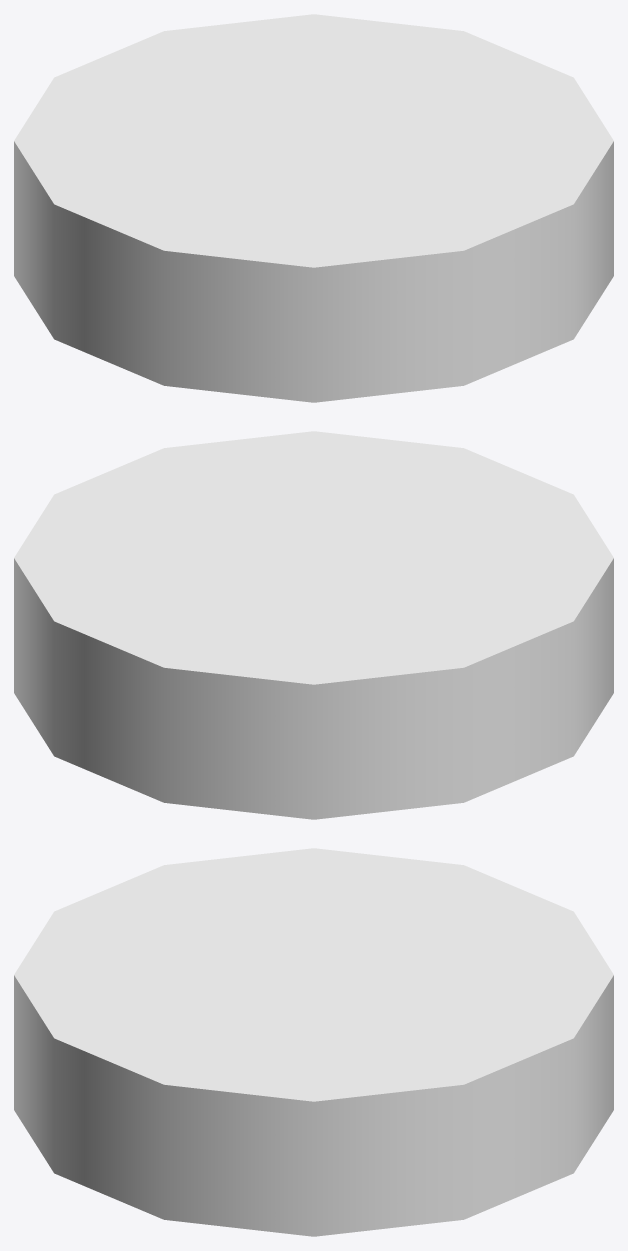
File: chewing tabacco.fbx
3 views of the same model, one above another, from view 1: azimuth 30°, elevation 25°; view 2: azimuth 150°, elevation 25°; view 3: azimuth 270°, elevation 25° (orthographic).
Parts seen in each view (by area): view 1: tabacco; view 2: tabacco; view 3: tabacco.
Part boxes in pixels (x1,y1,x2,y2): tabacco: (14,14,613,402); tabacco: (14,431,613,819); tabacco: (14,848,613,1236).
Size of the model in its own units: 0.2201 by 0.0547 by 0.2201.
